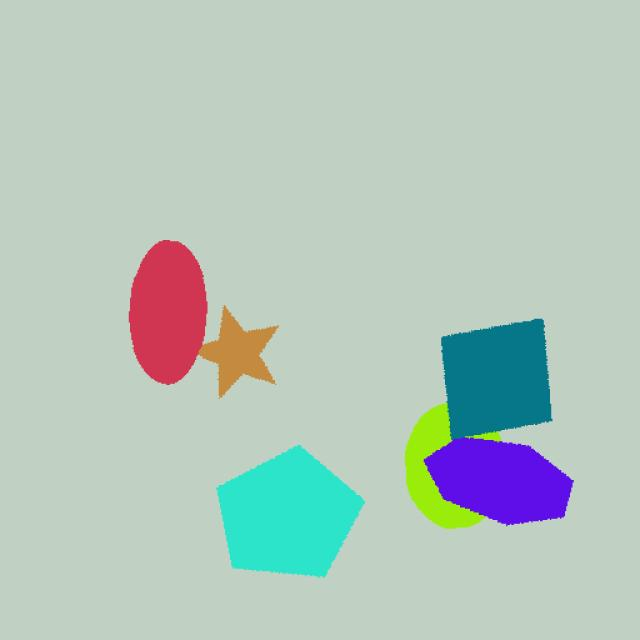Circle: (382, 394, 532, 538)
Heptagon: (403, 426, 597, 539)
Oval: (115, 236, 225, 399)
Pentagon: (189, 437, 385, 603)
Semicircle: (406, 308, 604, 453)
Star: (178, 293, 296, 414)
